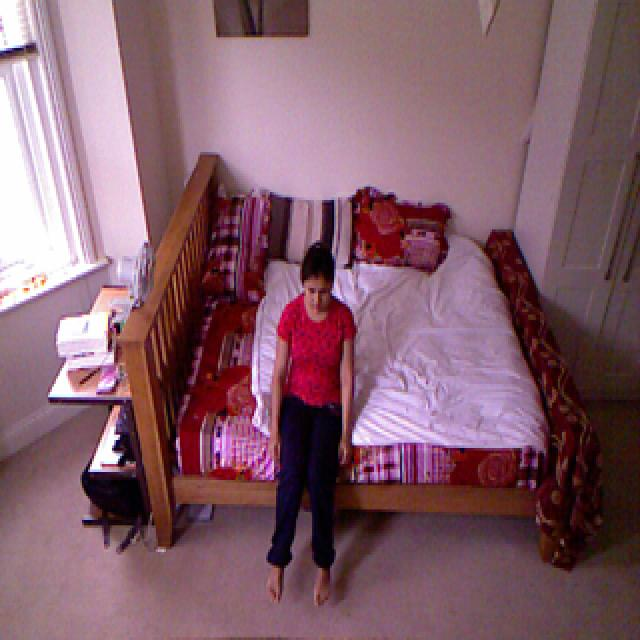sitting: (269, 250, 357, 590)
